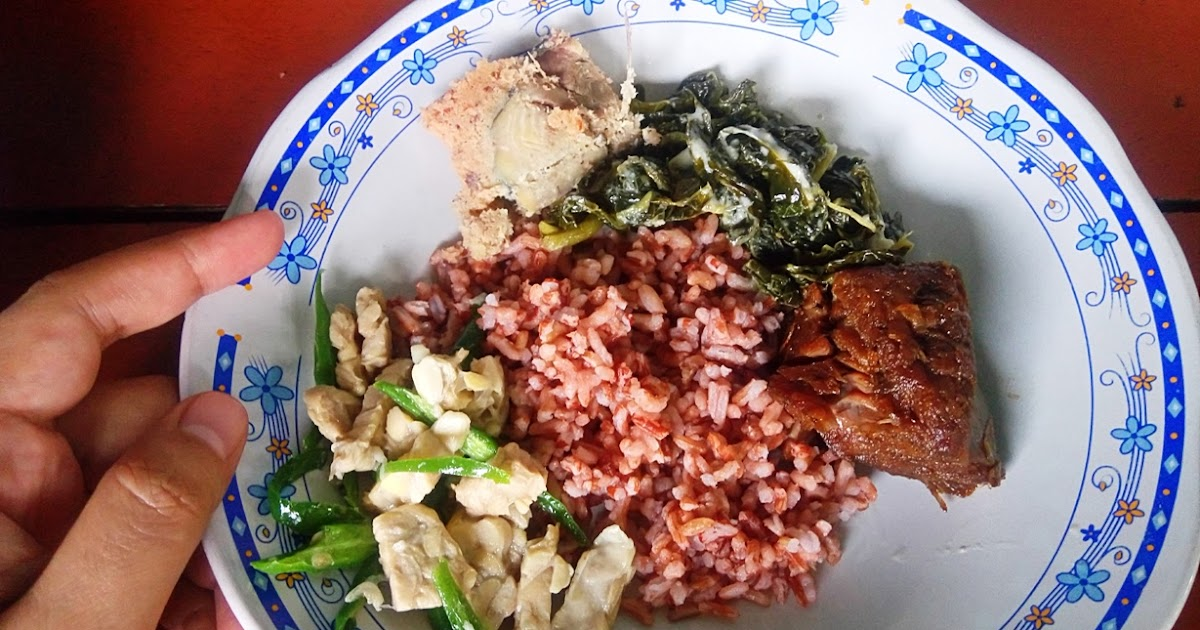Nasi Merah: (434, 189, 854, 627)
